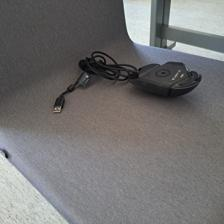mouse: (129, 61, 201, 99)
